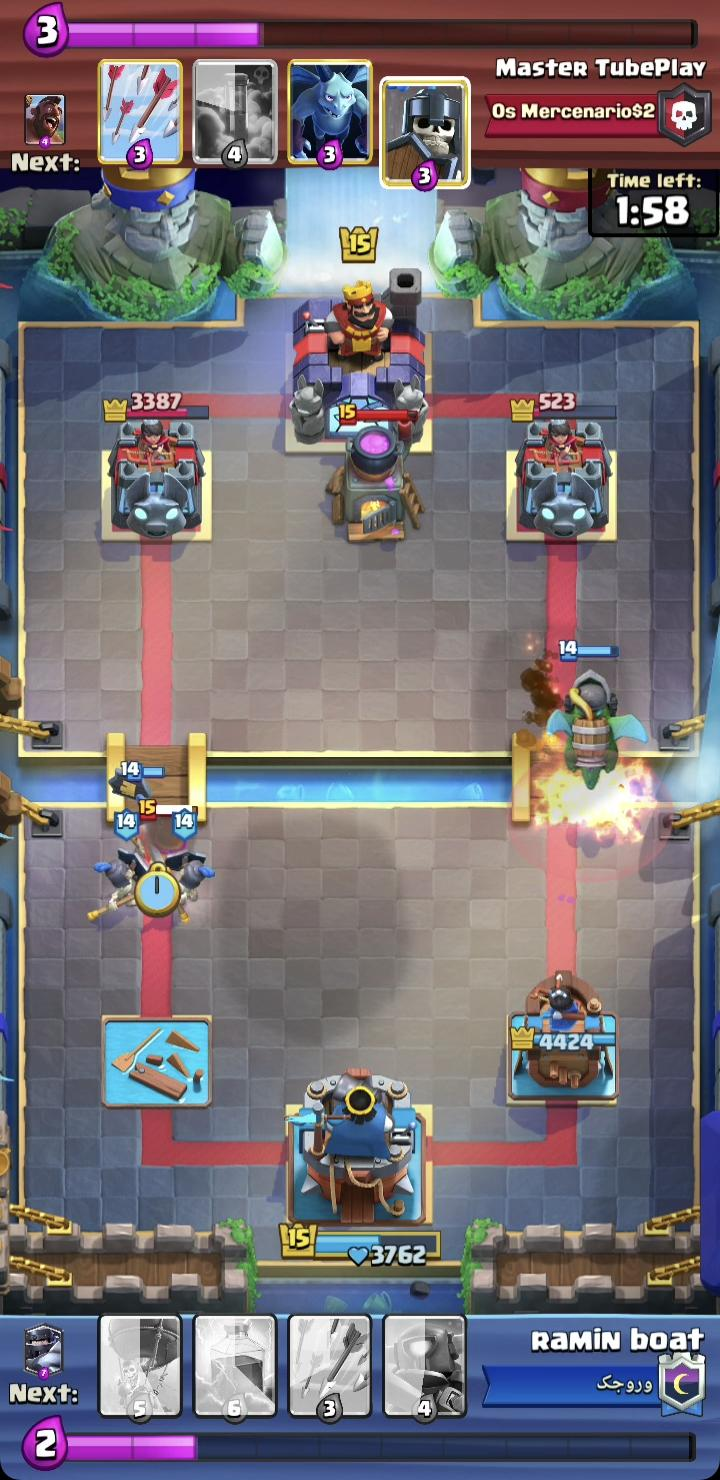ally_guard: (83, 807, 150, 925), (162, 808, 216, 925), (119, 756, 167, 853)
ally_infernodragon: (545, 639, 649, 790)
enemy_furnace: (325, 404, 428, 545)
enemy_musketeer: (134, 796, 192, 874)
